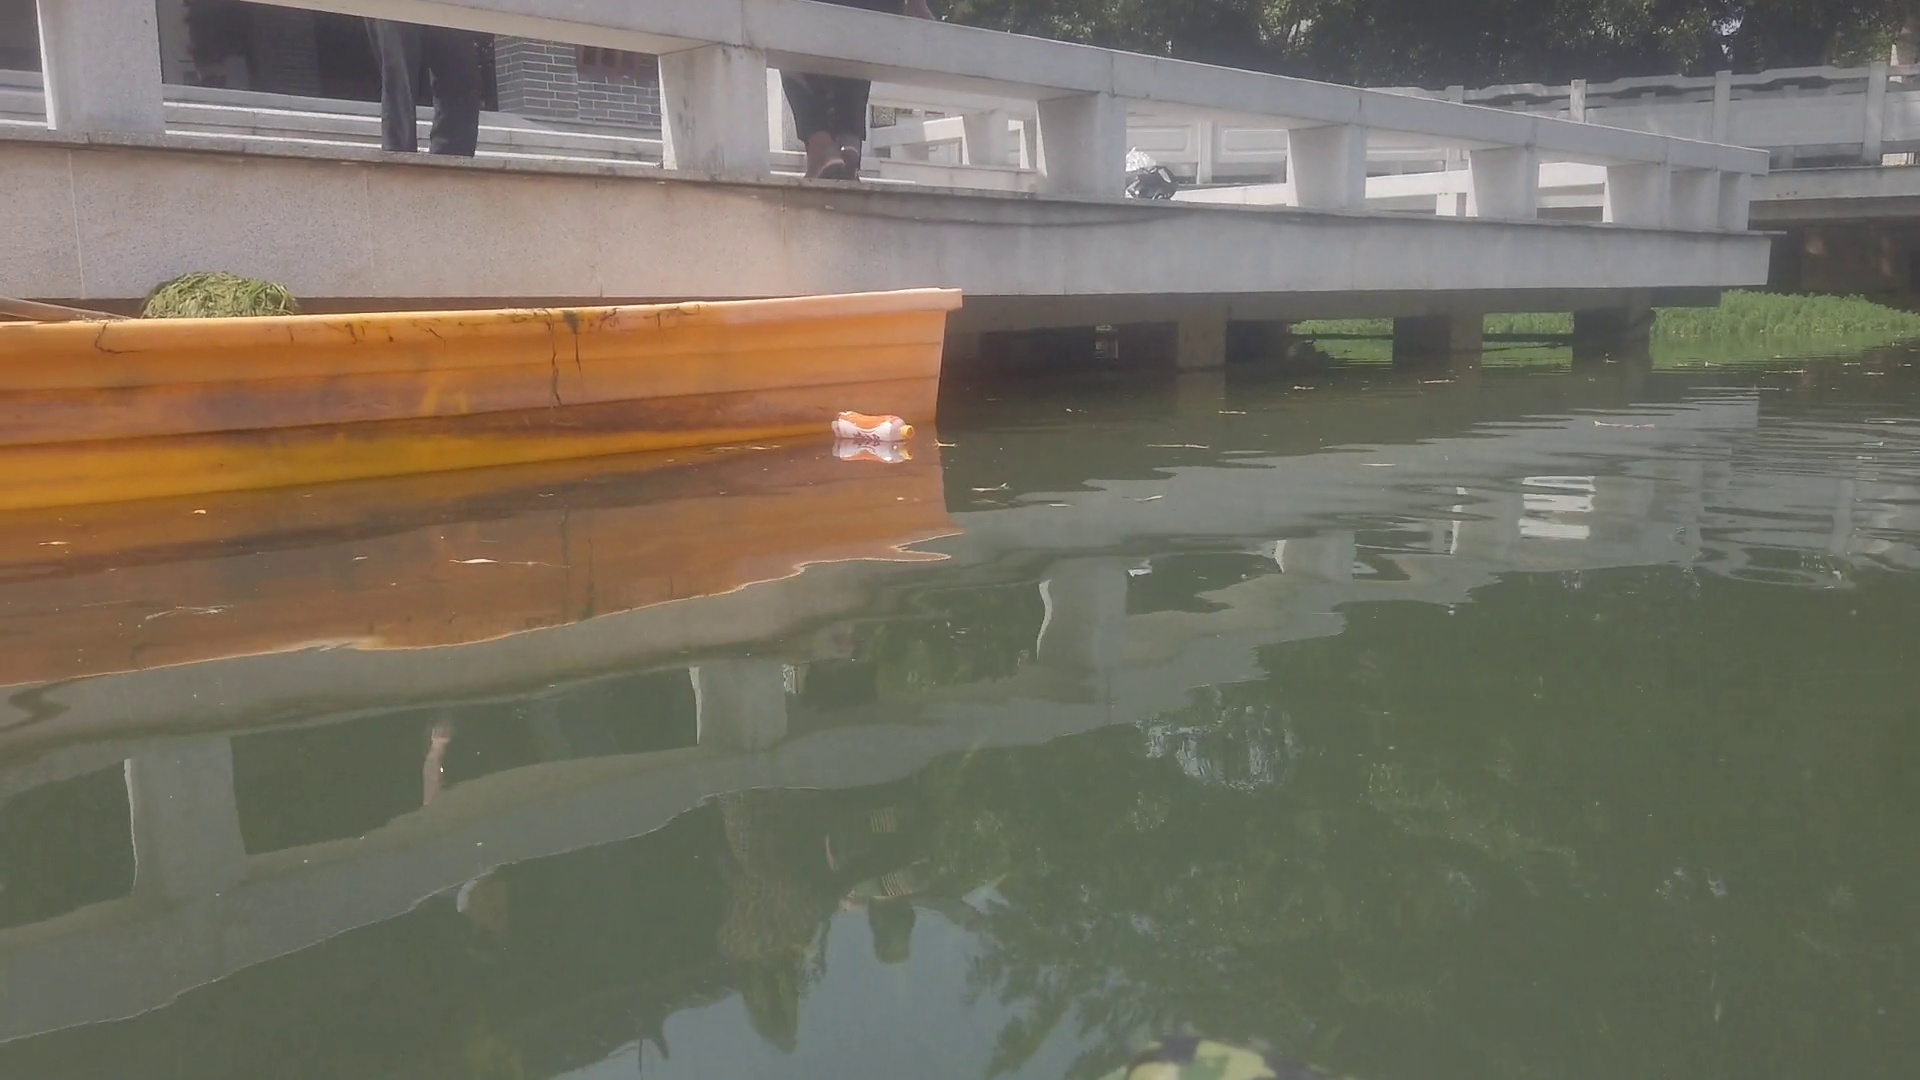bottle: (833, 407, 913, 440)
